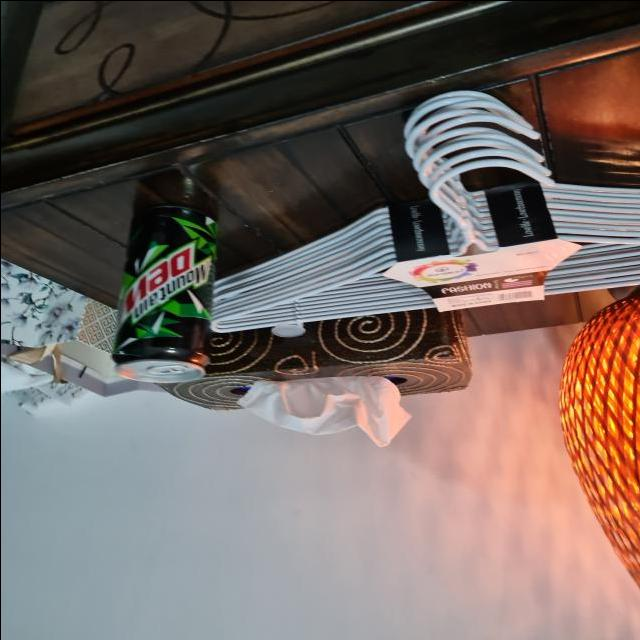can: (109, 208, 214, 382)
